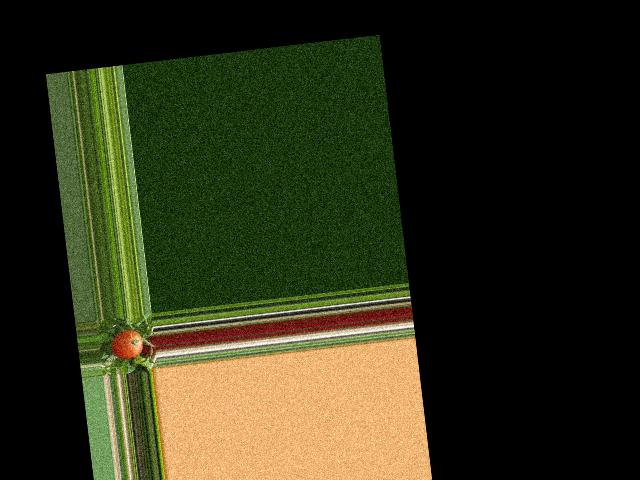tomato: (110, 328, 144, 360)
